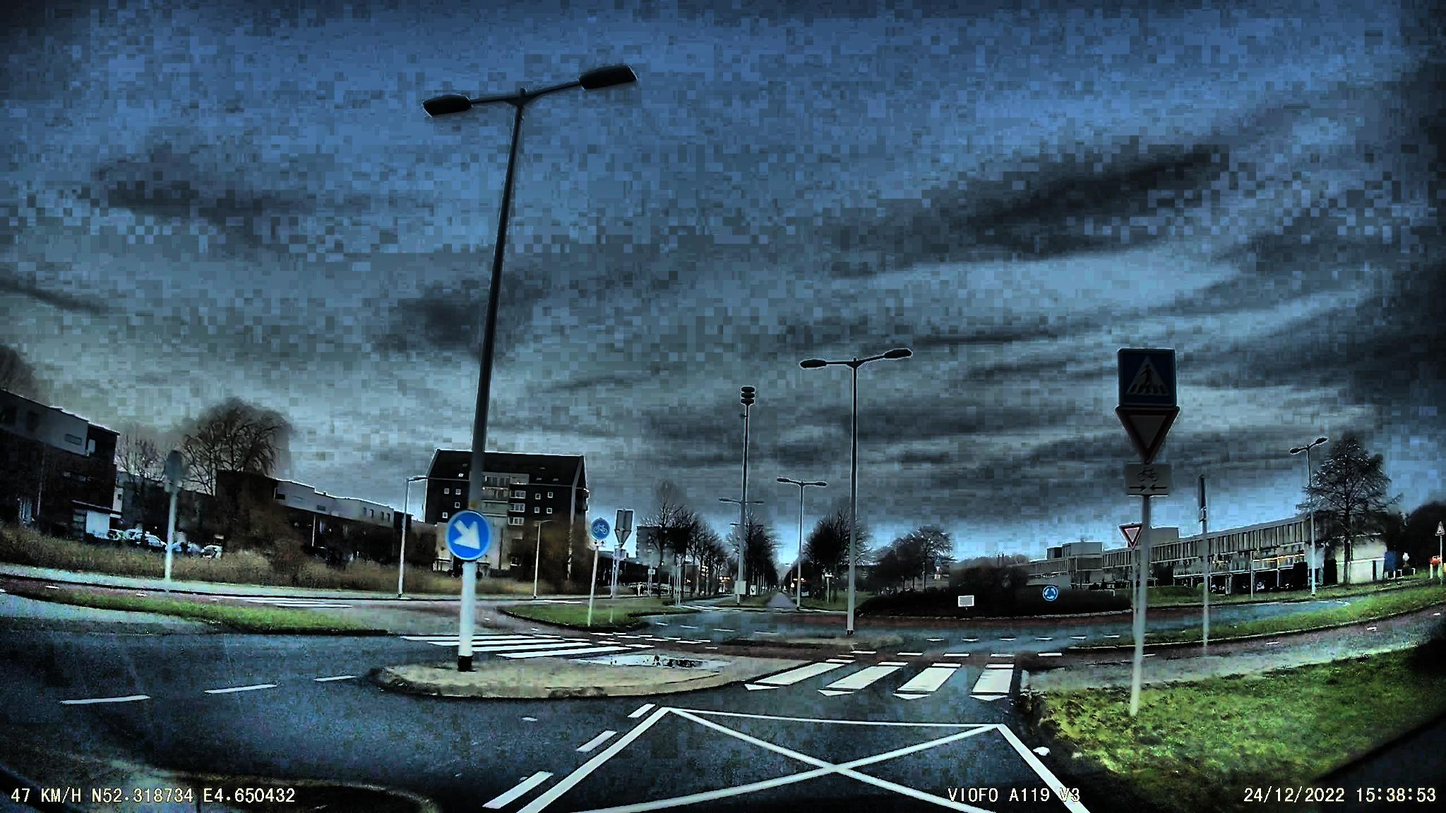Roads: (35, 619, 1127, 813)
